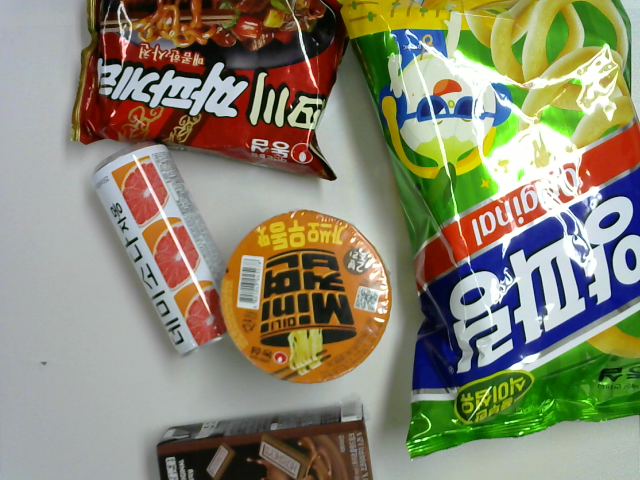Demisoda_Grapefruit_Can_250ml: (90, 142, 242, 357)
Hush_Choco_Drink: (157, 401, 374, 480)
Oninon_Ring: (335, 1, 640, 462)
Sichuan_Chapaghetti: (67, 1, 345, 186)
Udongmini: (218, 204, 399, 388)
